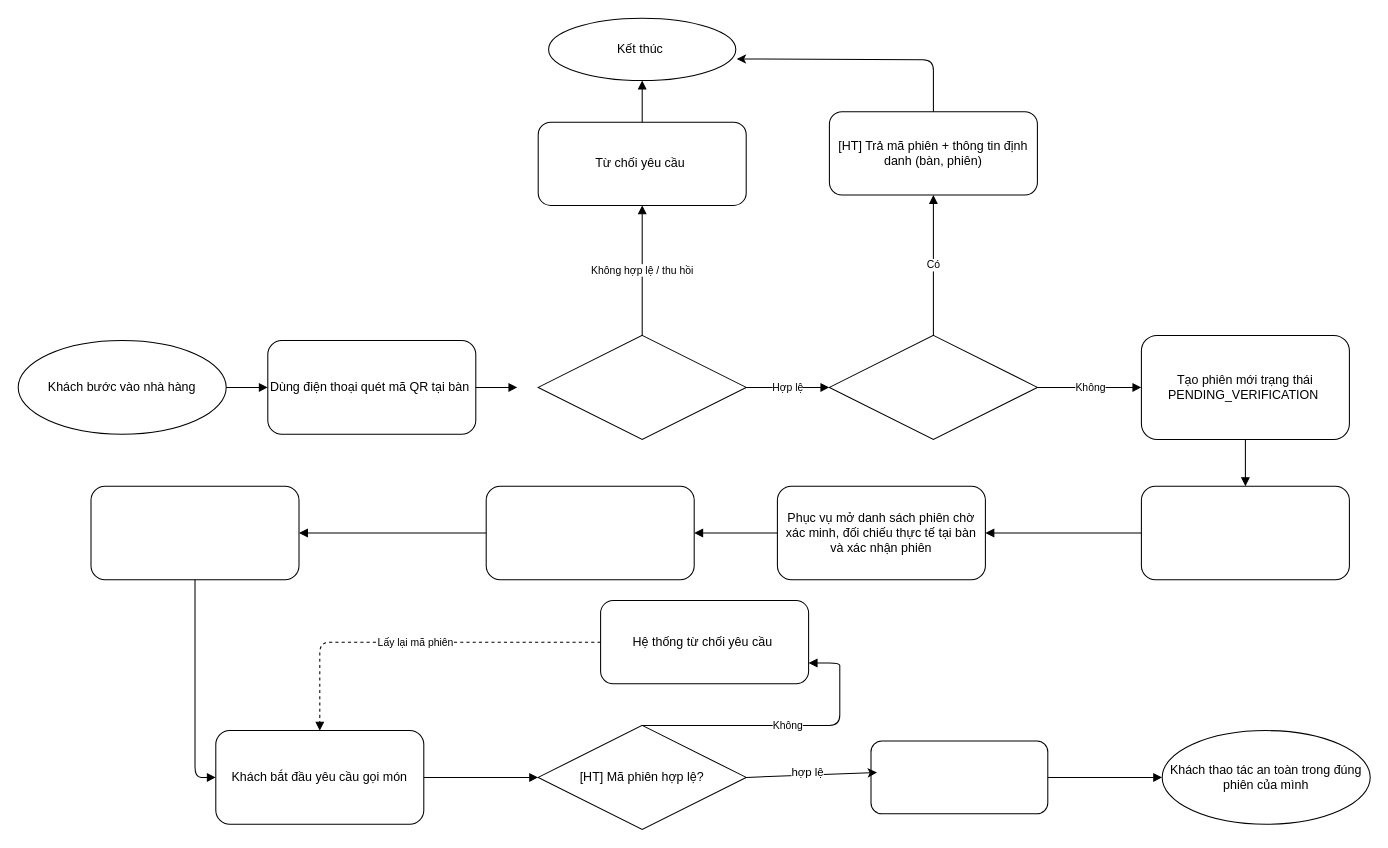
Some shapes in this 1388 by 848 pixel diagram are drawn without their labels. Here are the shapes that lost their labels. From the top down, the centre of each, then its label:
At point (641, 386): "[HT] Mã QR hợp lệ / chưa thu hồi?".
At point (932, 386): "[HT] Bàn đang có phiên ACTIVE?".
At point (194, 532): "Phiên ACTIVE sẵn sàng phục vụ".
At point (589, 532): "Phiên chuyển PENDING_VERIFICATION sang ACTIVE và bàn OCCUPIED".
At point (1244, 532): "Khách nhận thông báo phiên đang chờ xác nhận".
At point (959, 777): "Lưu mã phiên vào điện thoại".
